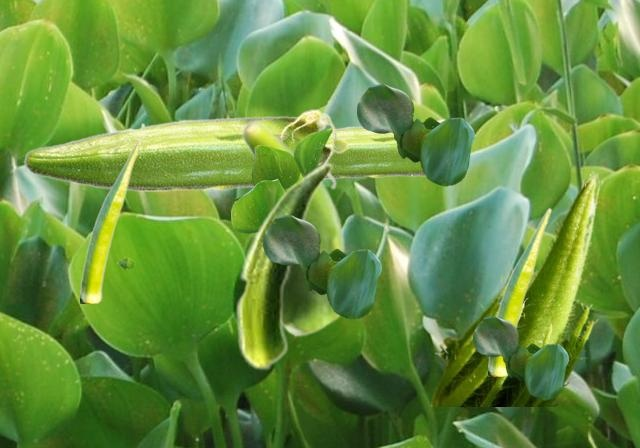okra: (427, 170, 603, 405), (23, 108, 347, 191), (240, 119, 346, 336), (235, 162, 332, 370), (488, 207, 550, 375), (80, 139, 140, 302), (327, 118, 445, 178)
